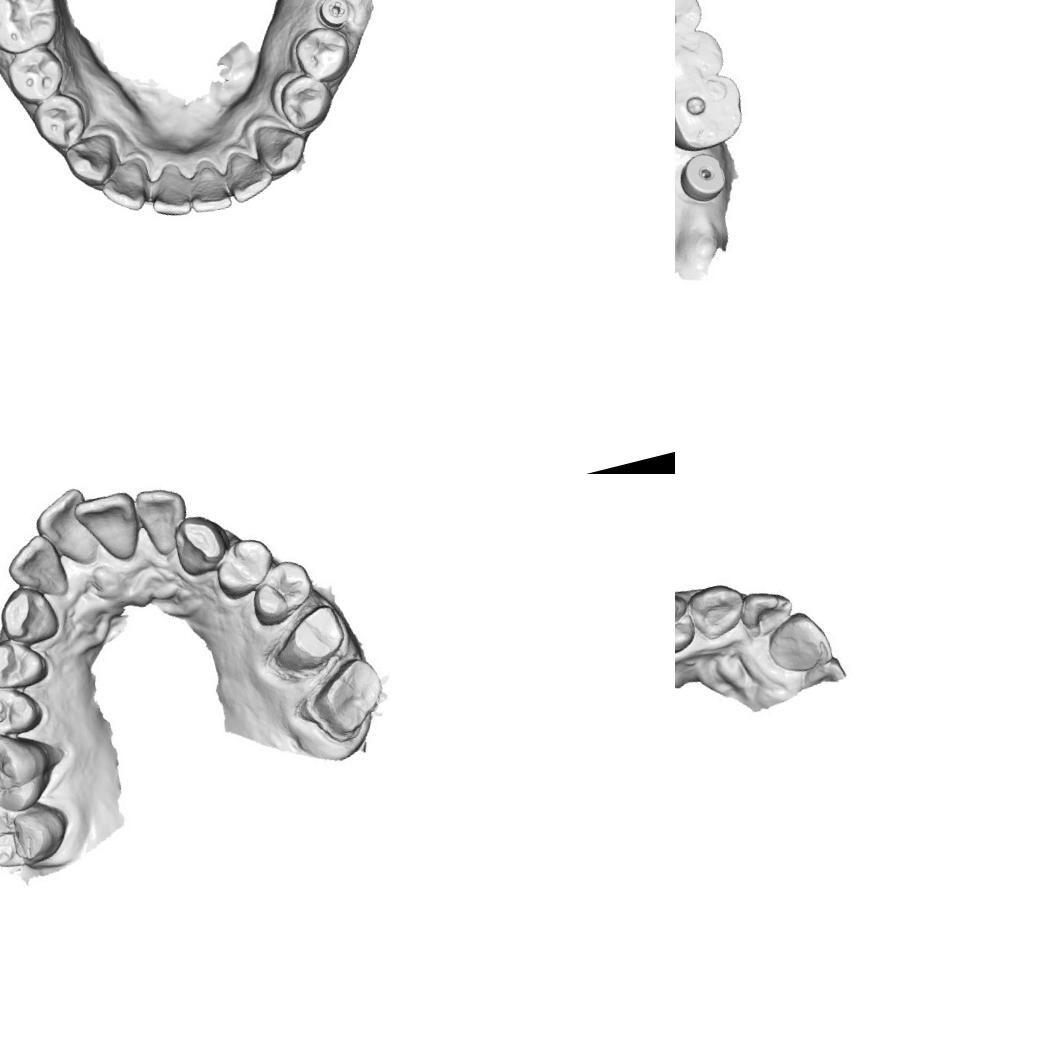canine: (55, 126, 127, 194), (164, 508, 230, 580), (247, 112, 312, 182), (0, 582, 61, 648), (684, 582, 744, 642)
crown: (297, 648, 395, 749), (268, 598, 354, 678)
implant: (675, 146, 731, 205)
implant_plus: (308, 0, 359, 34)
incisor: (70, 486, 146, 574), (26, 482, 99, 572), (1, 528, 73, 606), (754, 608, 832, 679), (131, 480, 195, 554), (734, 577, 800, 645), (93, 154, 155, 218), (218, 141, 278, 207), (142, 158, 198, 224), (180, 156, 236, 218)
molar: (675, 69, 752, 160), (0, 785, 75, 877), (0, 716, 59, 822), (0, 0, 69, 61)
premolar: (241, 553, 320, 628), (208, 529, 280, 603), (25, 86, 97, 158), (286, 17, 358, 89), (0, 39, 72, 110), (272, 66, 340, 136), (675, 26, 728, 95), (0, 628, 51, 698), (0, 674, 46, 745), (675, 0, 707, 53), (675, 587, 698, 655)
